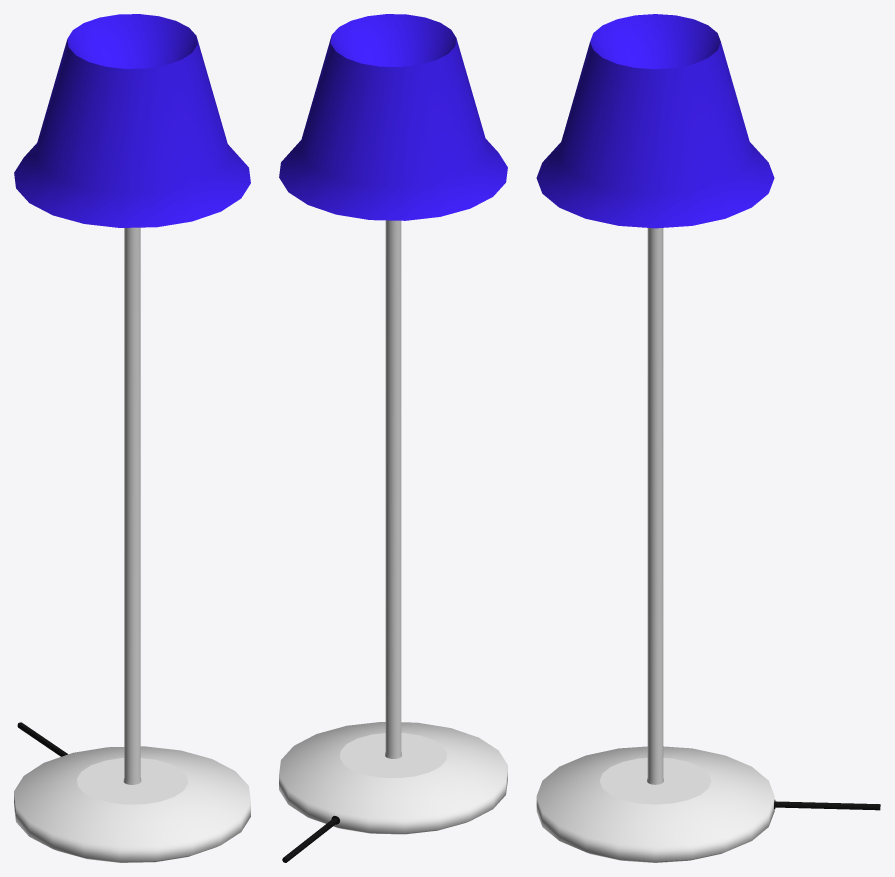
The model's file is LAMPFORSURFACING.obj.
The picture shows the model from 3 angles, left to right: view 1: azimuth 30°, elevation 25°; view 2: azimuth 150°, elevation 25°; view 3: azimuth 270°, elevation 25°; orthographic projection. The views are drawn at different scales.
Visible parts, largest first — view 1: pCylinderShape1; view 2: pCylinderShape1; view 3: pCylinderShape1.
Boxes of the visible parts, bbox=[...] form: pCylinderShape1: bbox=[14, 14, 250, 862]; pCylinderShape1: bbox=[279, 14, 507, 862]; pCylinderShape1: bbox=[536, 14, 880, 862].
Size of the model in its own units: 2 by 7.19 by 2.89.
